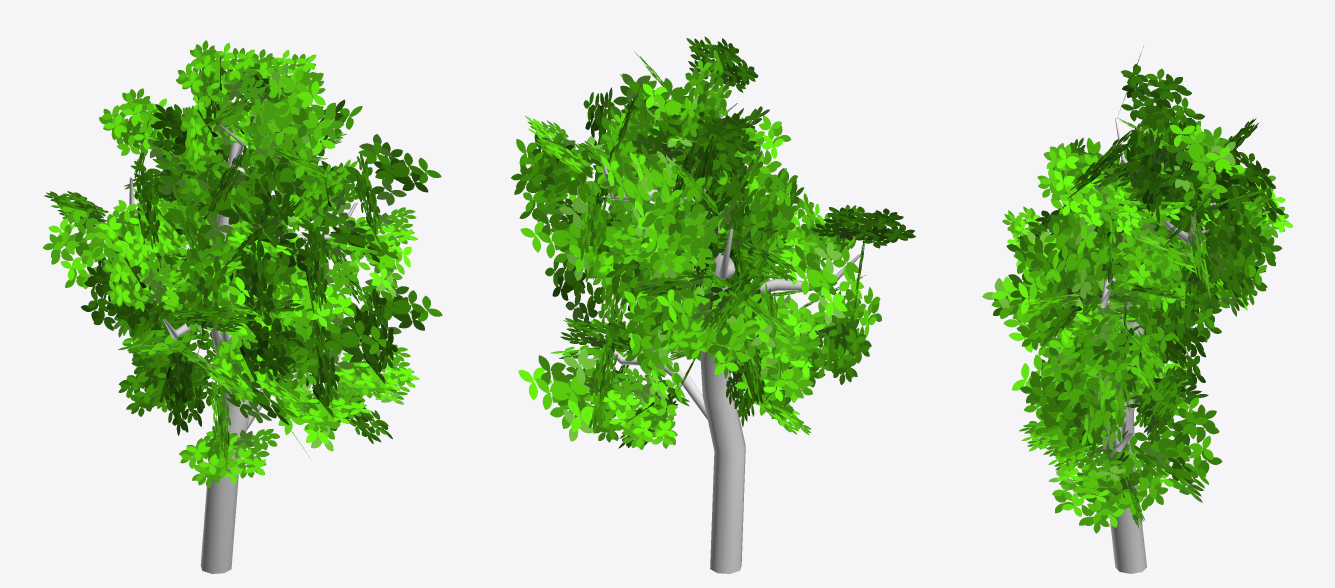
The model's file is Tree1.fbx.
The picture shows the model from 3 angles, left to right: view 1: azimuth 30°, elevation 25°; view 2: azimuth 150°, elevation 25°; view 3: azimuth 270°, elevation 25°; orthographic projection. The views are drawn at different scales.
Visible parts, largest first — view 1: Tree1; view 2: Tree1; view 3: Tree1.
Boxes of the visible parts, x1,y1,x2,y2 form: Tree1: (43, 40, 442, 573); Tree1: (511, 36, 915, 573); Tree1: (982, 46, 1293, 573).
Size of the model in its own units: 612 by 824 by 508.
